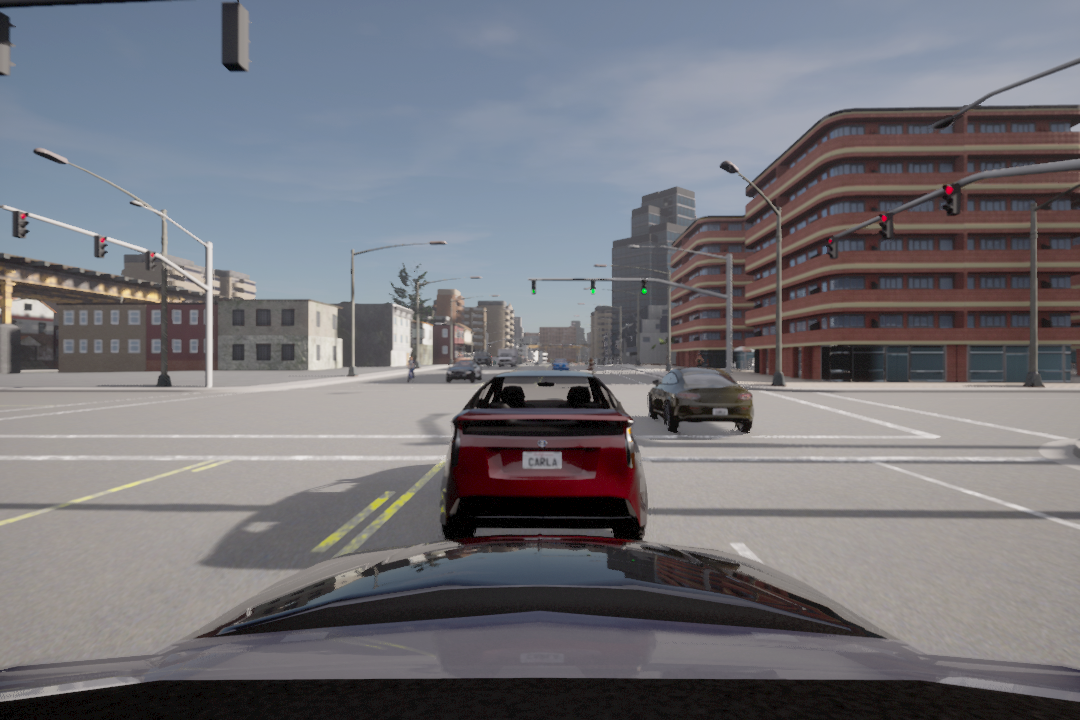TrafficLight: (8, 207, 34, 244), (943, 185, 966, 218), (875, 210, 894, 241), (91, 232, 109, 260), (144, 249, 159, 277), (825, 236, 837, 261), (528, 278, 539, 297), (637, 277, 647, 297), (589, 277, 598, 297)
